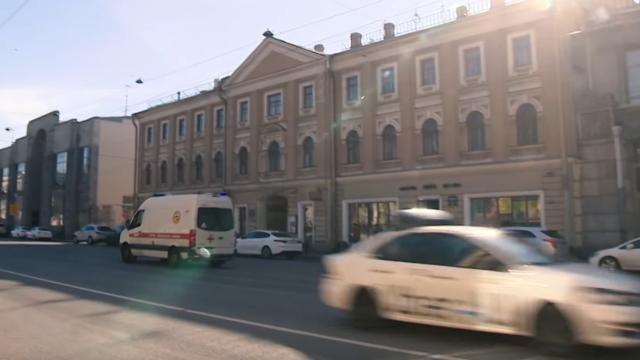ambulance: (119, 195, 237, 269)
non emergency car: (320, 209, 639, 354), (598, 177, 640, 276), (499, 229, 571, 266), (238, 231, 303, 260), (73, 225, 116, 247), (26, 227, 52, 242), (10, 225, 27, 239)
